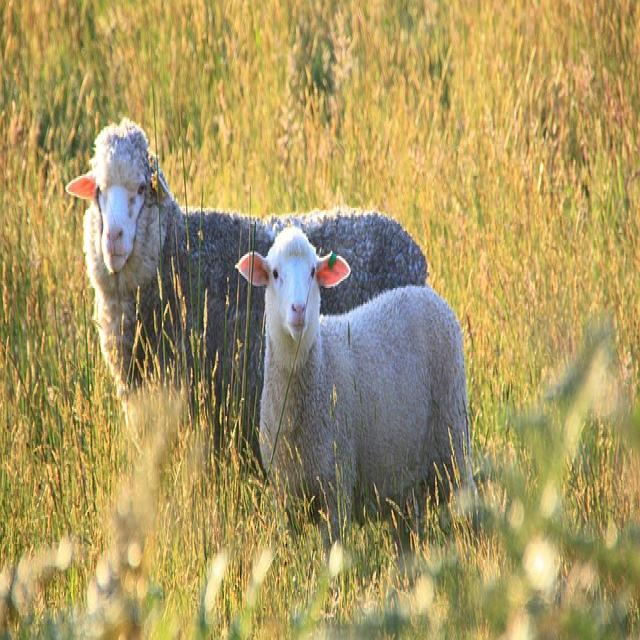goat: (67, 123, 430, 443), (241, 228, 470, 512)
